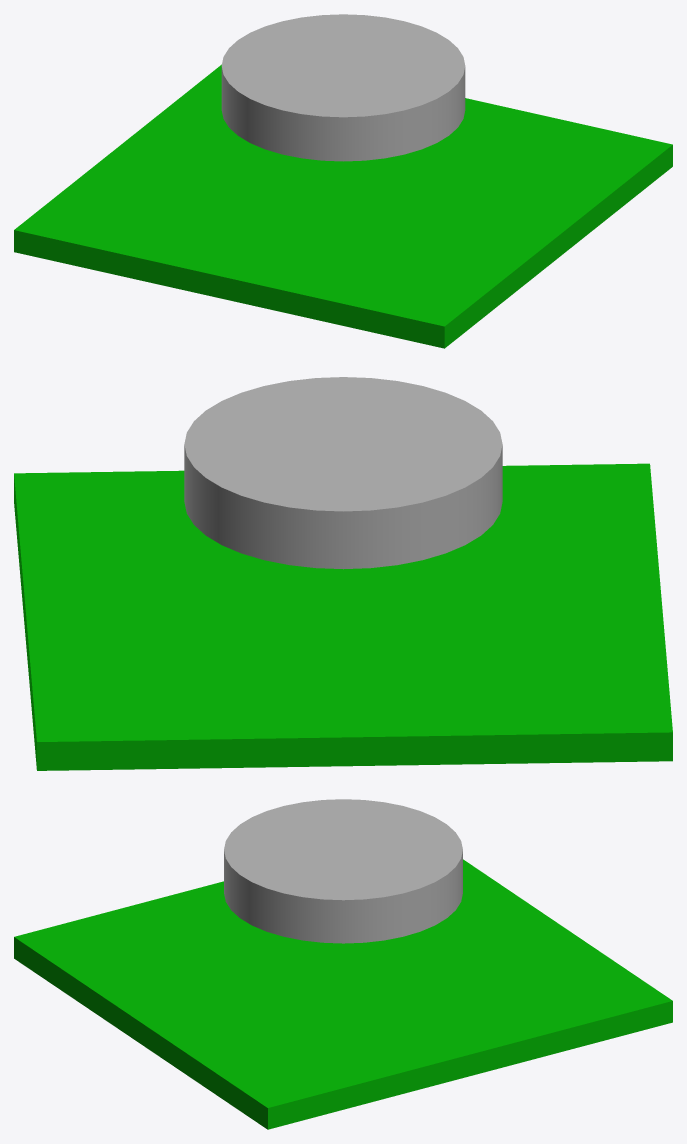
Rendered from turntable2ci.glb.
The picture shows the model from 3 angles, top to bottom: view 1: azimuth 30°, elevation 25°; view 2: azimuth 150°, elevation 25°; view 3: azimuth 270°, elevation 25°; orthographic projection. The views are drawn at different scales.
Bounding box in the file's own units: 2.76 × 0.65 × 2.76.
